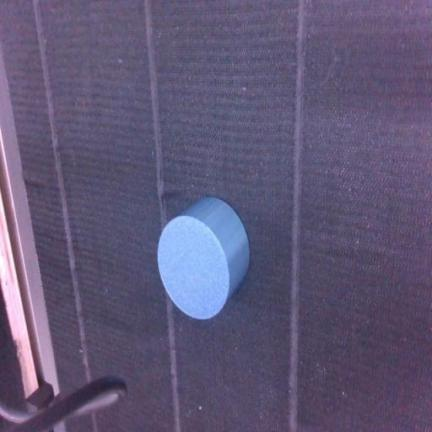cylinder: (157, 197, 249, 319)
